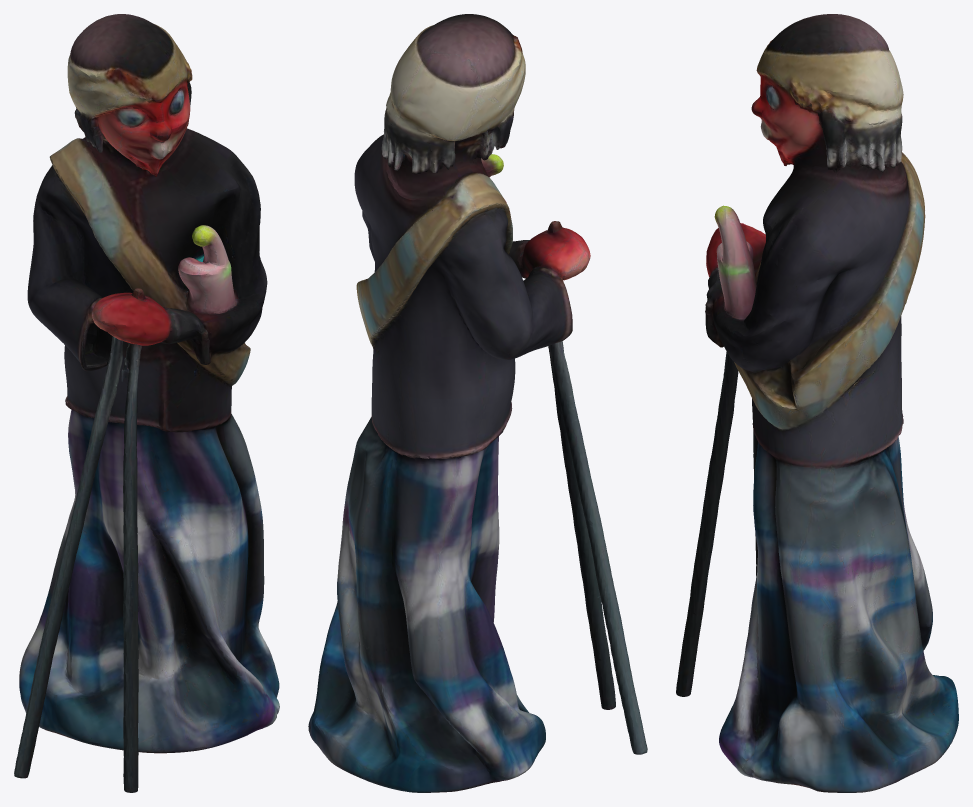
Rendered from Wayang.glb.
The picture shows the model from 3 angles, left to right: view 1: azimuth 30°, elevation 25°; view 2: azimuth 150°, elevation 25°; view 3: azimuth 270°, elevation 25°; orthographic projection. The views are drawn at different scales.
Visible parts, largest first — view 1: mesh; view 2: mesh; view 3: mesh.
Part boxes in pixels (x1=…): mesh: x1=14, y1=14, x2=279, y2=792; mesh: x1=308, y1=14, x2=647, y2=792; mesh: x1=676, y1=14, x2=958, y2=792.
Bounding box in the file's own units: 0.4177 × 1 × 0.3618.
Materials: 1 (1 with a texture image).
